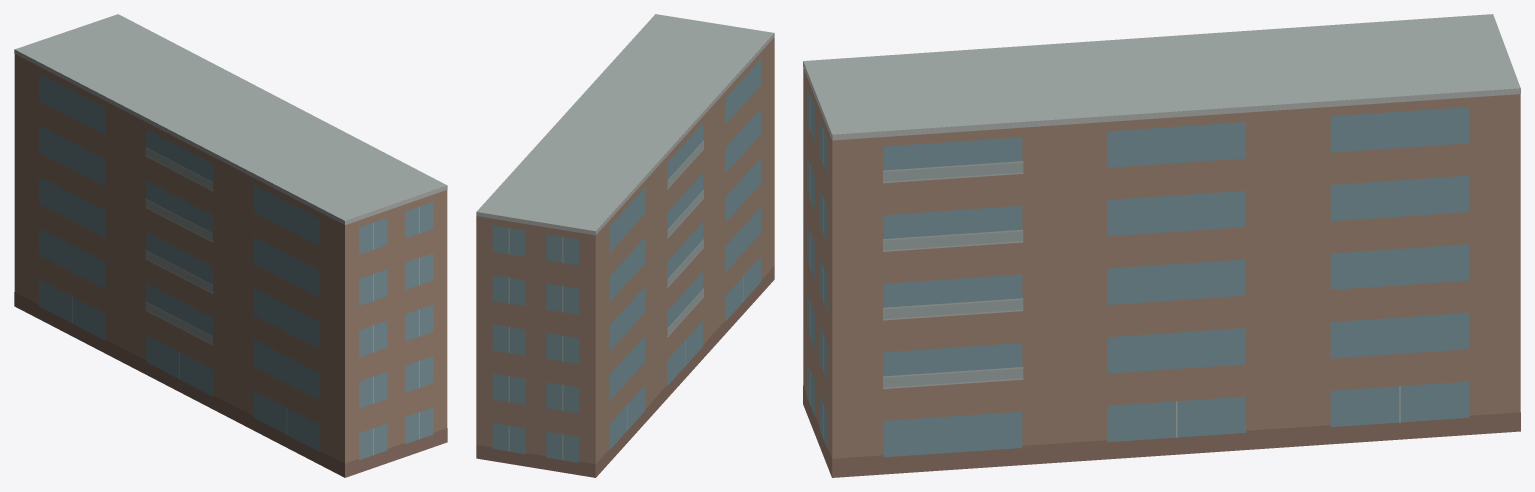
The model's file is survey-upis-32577316.glb.
The picture shows the model from 3 angles, left to right: view 1: azimuth 30°, elevation 25°; view 2: azimuth 150°, elevation 25°; view 3: azimuth 270°, elevation 25°; orthographic projection. The views are drawn at different scales.
Parts seen in each view (by area): view 1: survey-upis-32577316.tmp; view 2: survey-upis-32577316.tmp; view 3: survey-upis-32577316.tmp.
Part boxes in pixels (x1,y1,x2,y2): survey-upis-32577316.tmp: [14, 14, 447, 477]; survey-upis-32577316.tmp: [476, 14, 774, 477]; survey-upis-32577316.tmp: [803, 14, 1520, 477].
Bounding box in the file's own units: 11.03 × 14.6 × 27.69.
